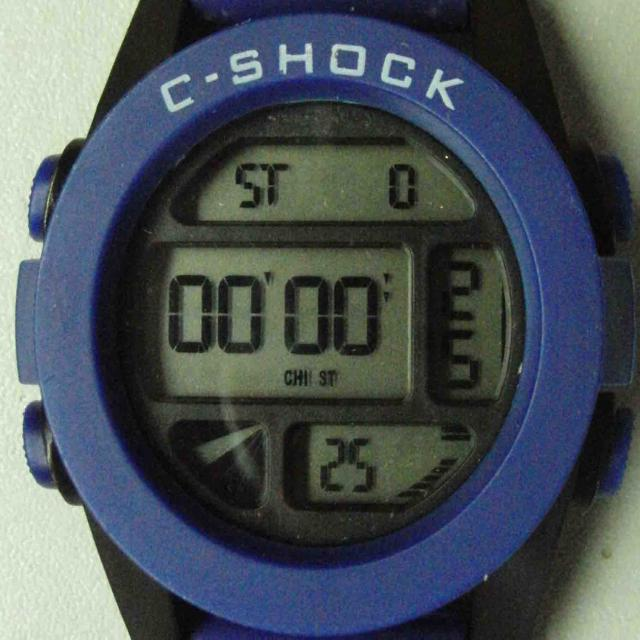watch: (63, 67, 600, 619)
